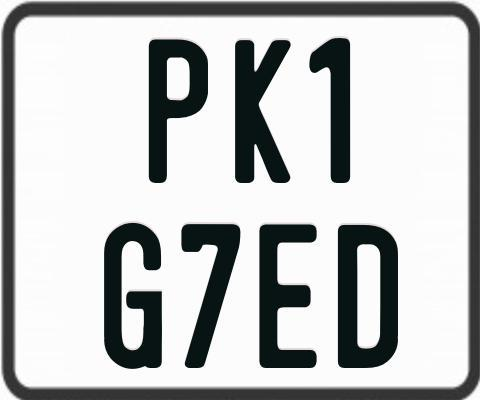1: (309, 37, 352, 182)
7: (181, 224, 242, 370)
D: (338, 222, 402, 368)
E: (256, 224, 314, 373)
G: (103, 220, 162, 371)
K: (233, 39, 293, 183)
P: (149, 38, 209, 187)
